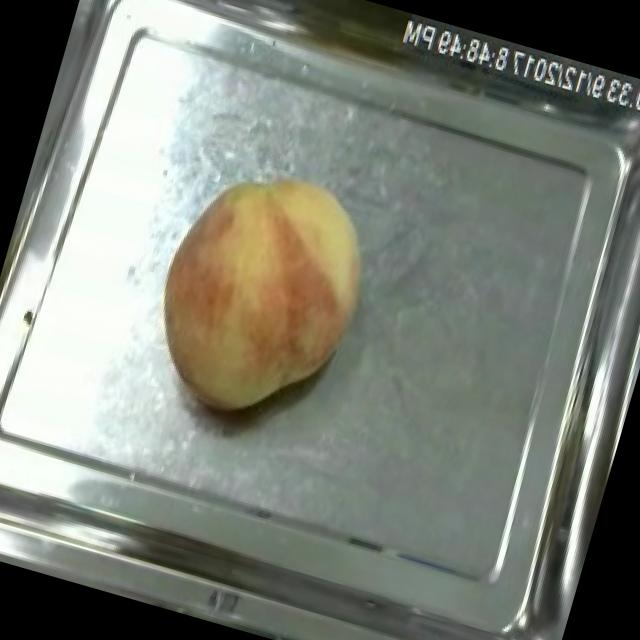Fruit: (126, 140, 397, 445)
